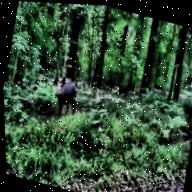boar: (43, 65, 87, 121)
